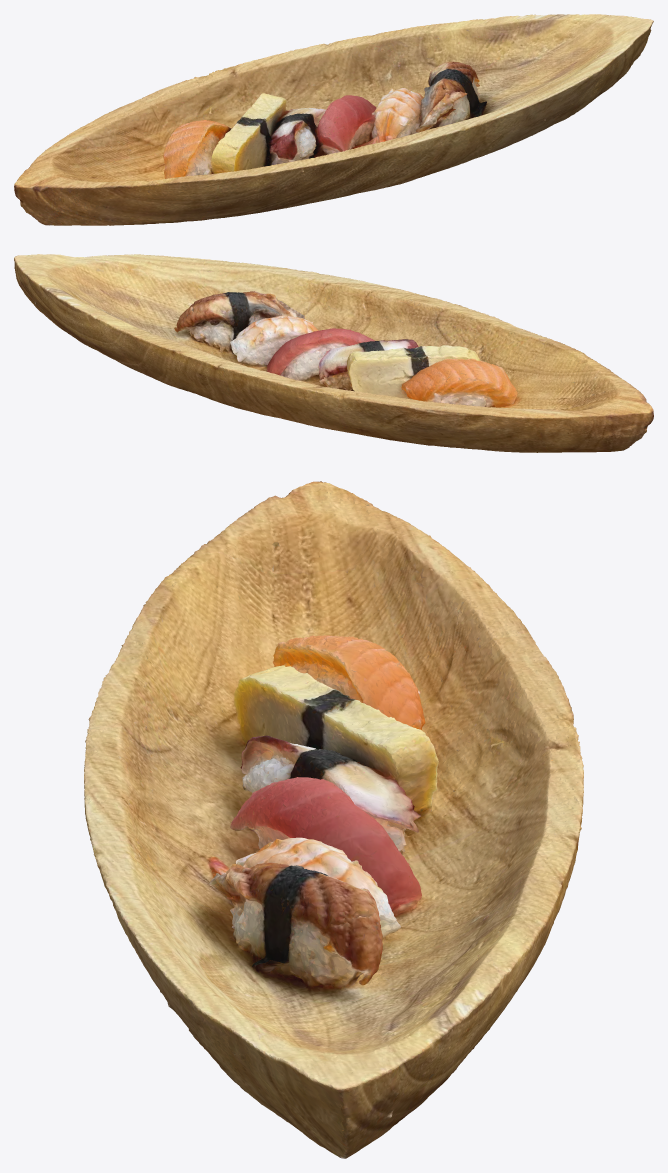
Rendered from sushi.glb.
The picture shows the model from 3 angles, top to bottom: view 1: azimuth 30°, elevation 25°; view 2: azimuth 150°, elevation 25°; view 3: azimuth 270°, elevation 25°; orthographic projection. The views are drawn at different scales.
Visible parts, largest first — view 1: MenuVision_Fit; view 2: MenuVision_Fit; view 3: MenuVision_Fit.
Part boxes in pixels (x1,y1,x2,y2): MenuVision_Fit: [14, 14, 653, 225]; MenuVision_Fit: [14, 254, 653, 452]; MenuVision_Fit: [84, 481, 583, 1158].
Bounding box in the file's own units: 0.2 × 0.0174 × 0.0684.
Materials: 1 (1 with a texture image).
